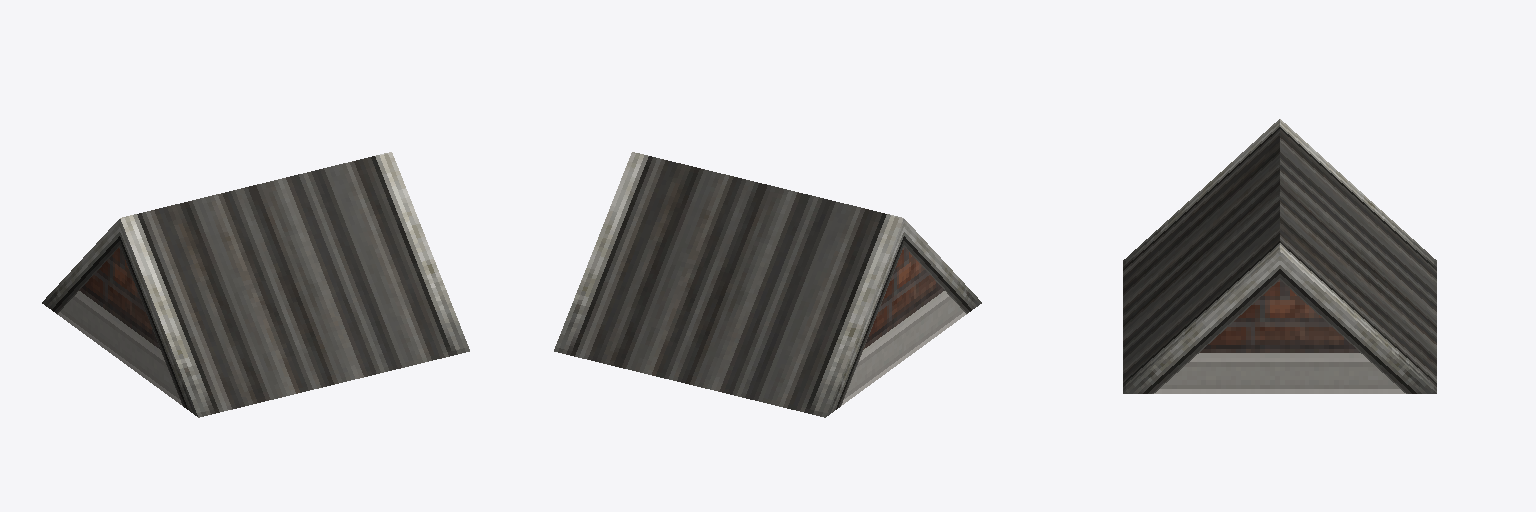
3 views of the same model, side by side, from view 1: azimuth 30°, elevation 25°; view 2: azimuth 150°, elevation 25°; view 3: azimuth 270°, elevation 25° (orthographic).
Visible parts, largest first — view 1: wallA_roof; view 2: wallA_roof; view 3: wallA_roof.
Boxes of the visible parts, box(x1,y1,x2,y2) form: wallA_roof: box(42, 152, 469, 417); wallA_roof: box(554, 152, 981, 417); wallA_roof: box(1123, 119, 1436, 393).
Size of the model in its own units: 1 by 0.5 by 1.
Materials: 3 (3 with a texture image).